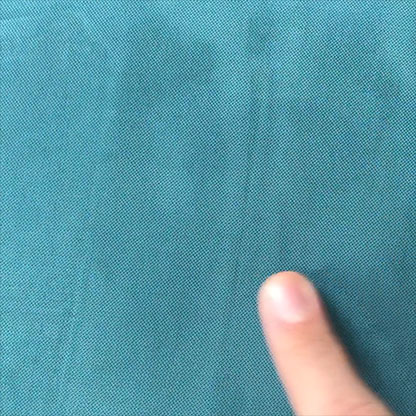fingertip: (242, 253, 332, 339)
